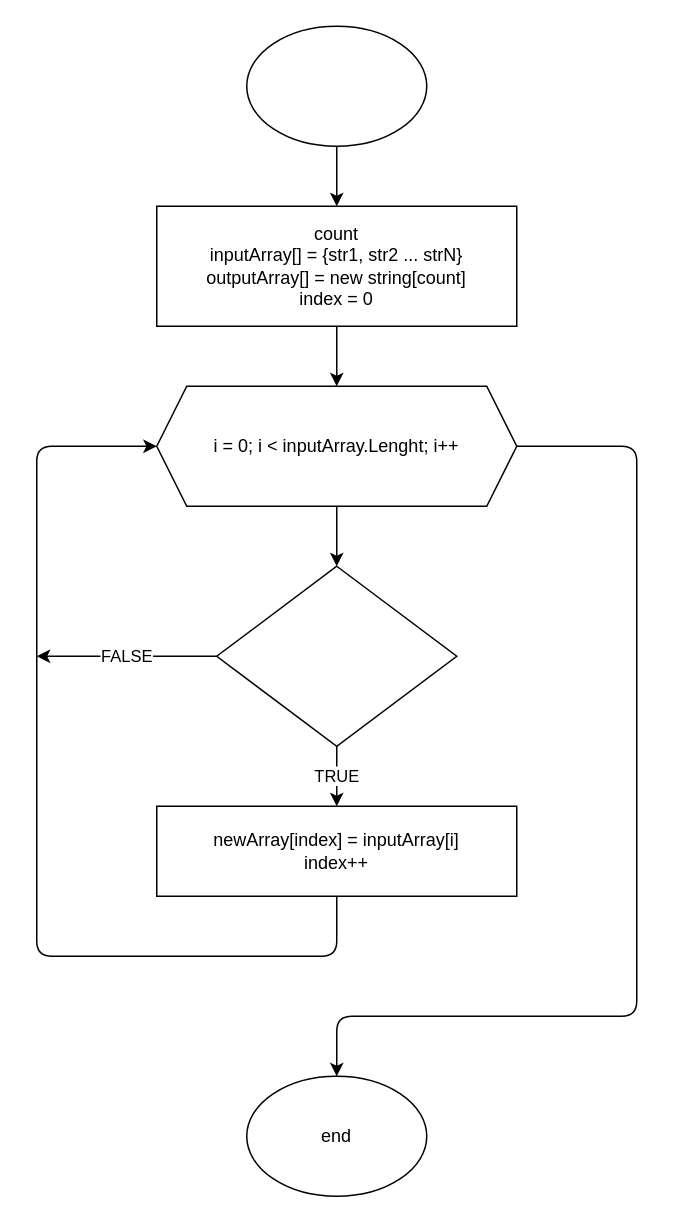
Image size: 675x1223. Some labels were removed from this diagram. Here are the shapes that lost their labels. From the top down, the centre of each, then its label:
[336,85]: start
[336,655]: inputArray[i].Lenght <= 3
